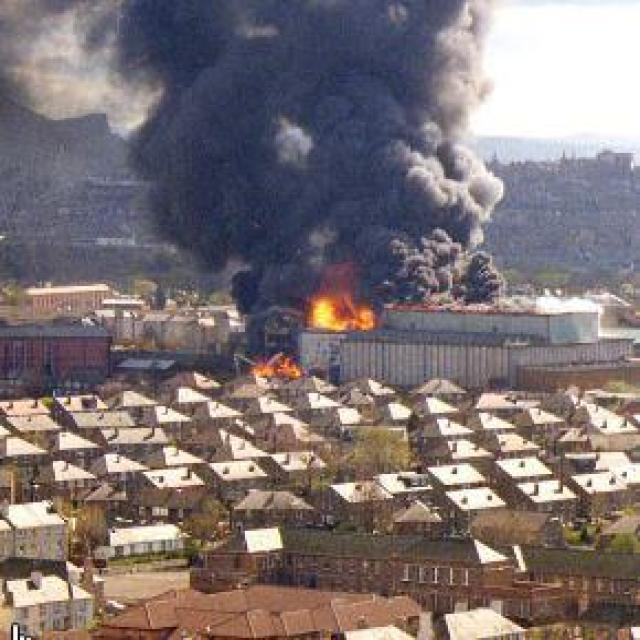Fire: (309, 292, 379, 336), (253, 354, 302, 381)
Smoke: (140, 11, 488, 262)
